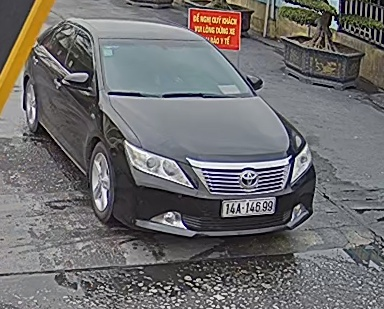vehicle plate: (219, 195, 276, 226)
